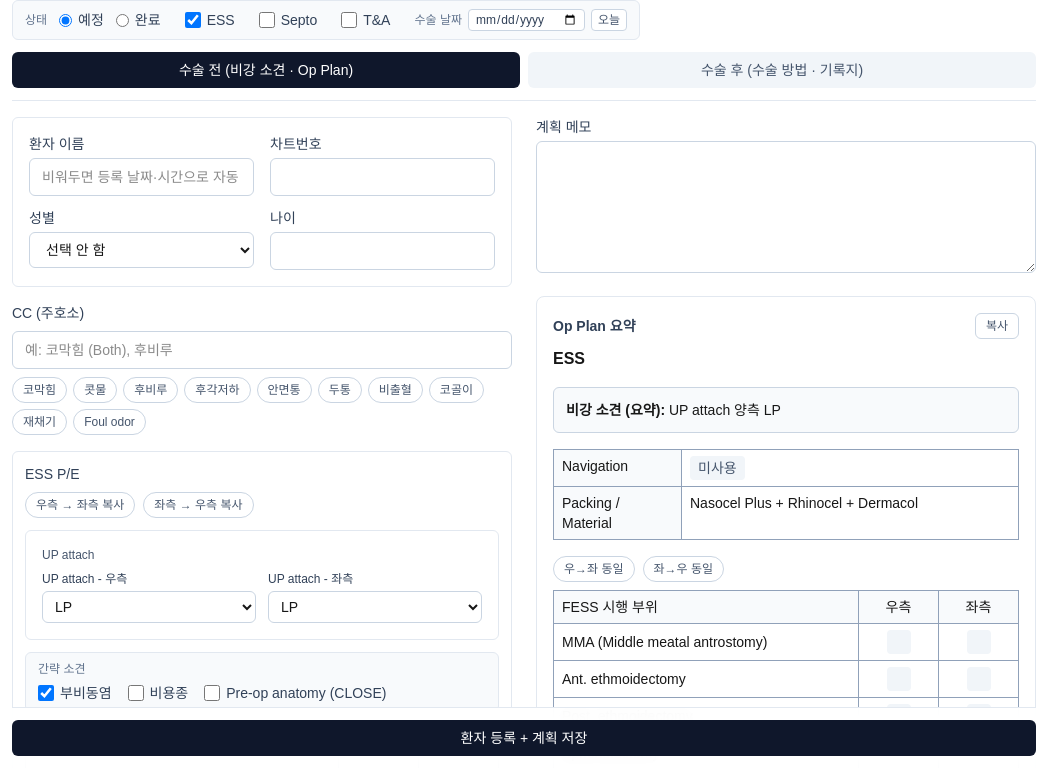
Scenario: T&A 선택 › T&A를 체크하면 ESS/Septo가 꺼지고 T&A 수술명·기록지가 만들어진다
The image size is (1048, 768).
Click the checkbox labelled "T&A" at (349, 20), box [341,12,357,28]
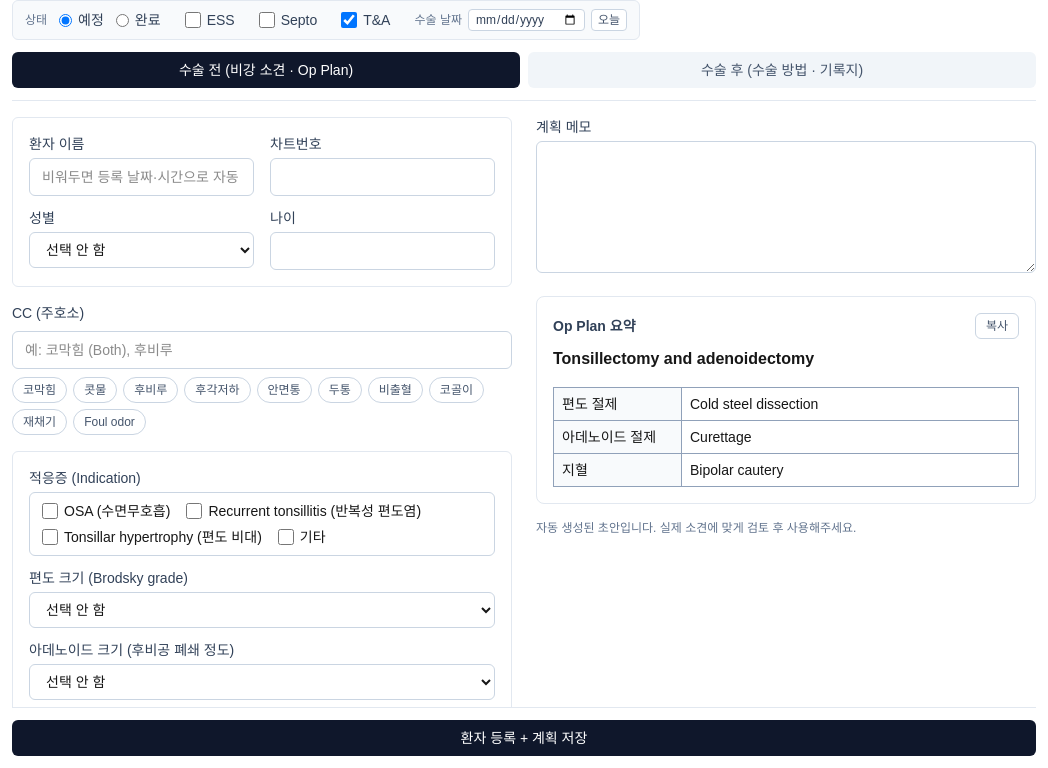
Now the checkbox labelled "T&A" is checked, box [341,12,357,28]
Now the text "Tonsillectomy and adenoidectomy" is shown, box [553,350,814,367]
Now the text "편도 크기 (Brodsky grade)" is shown, box [29,570,188,586]
Click the button "수술 후 (수술 방법 · 기록지)" at (782, 70), box [528,52,1036,88]
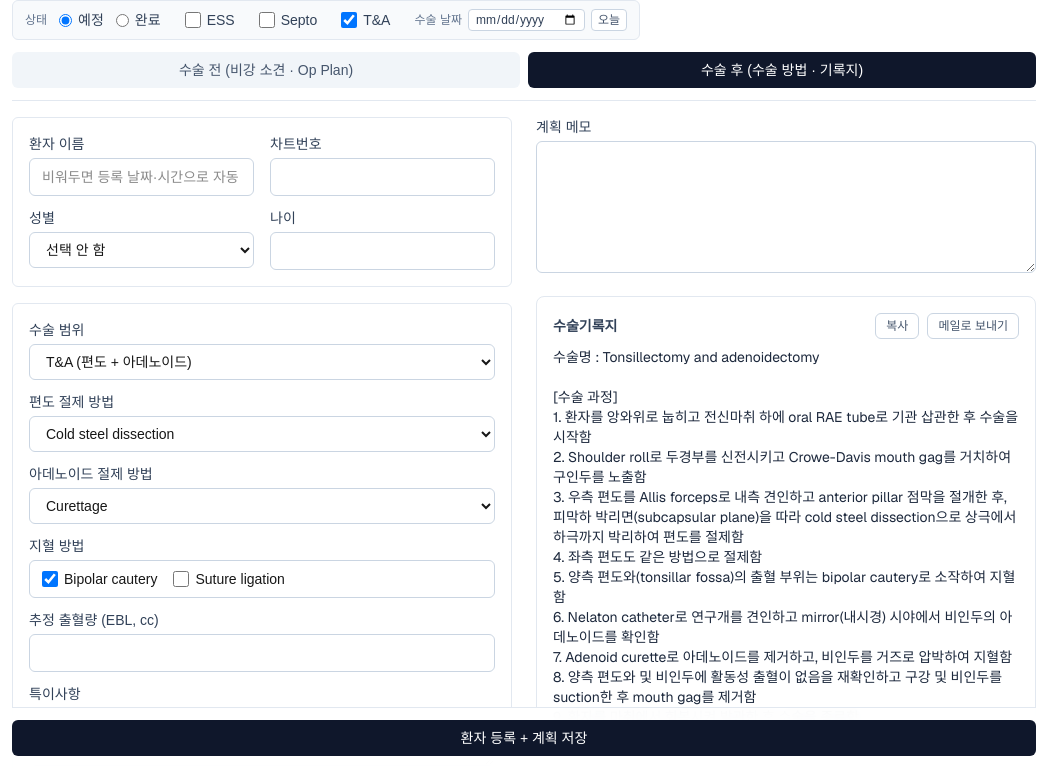
Now the text "수술 범위" is shown, box [29,322,84,338]
Select "편도절제술만 (Tonsillectomy)" in the dropdown named "field_t_scope" below "수술 범위" at (262, 362), box [29,344,495,380]
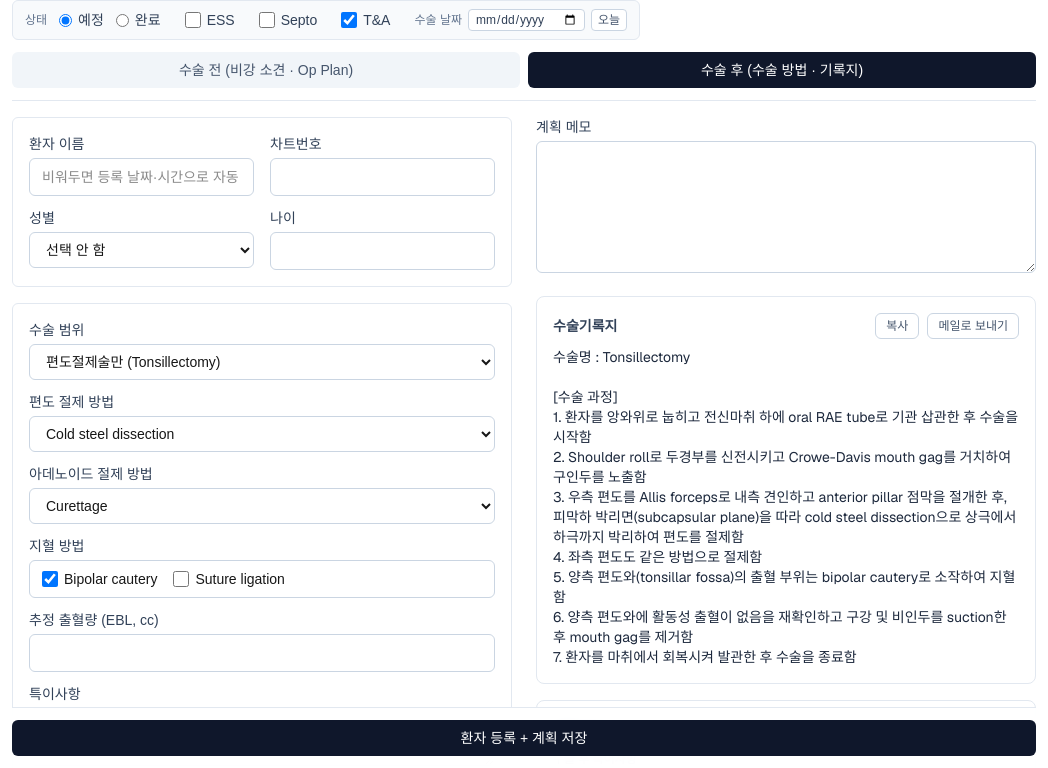
Now the text "Crowe-Davis mouth gag" is shown, box [553,348,1022,666]
Now the text "Tonsillectomy and adenoidectomy" is gone
